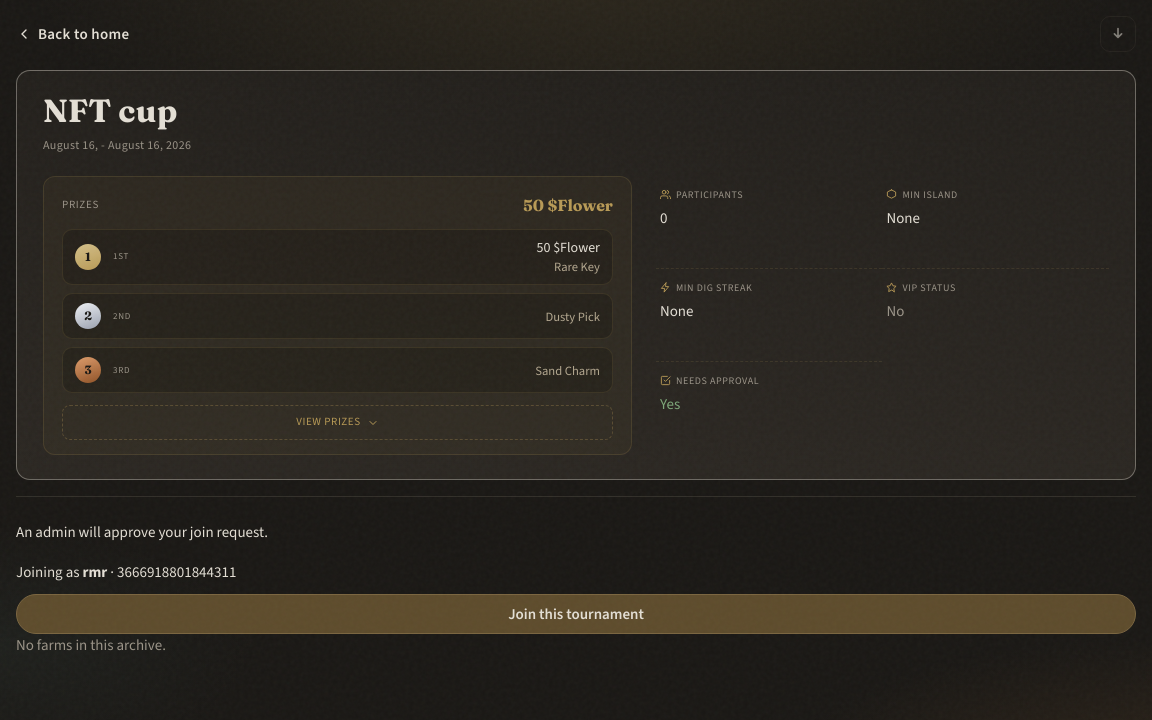
it: TournamentsPage › omits zero Flower on details prize rows and shows only the NFT name
What coordinates should you click on to do the following:
click the button with test id "tournament-more-prizes"
I would click on:
 (338, 423)
Its box is [62,405,613,440].
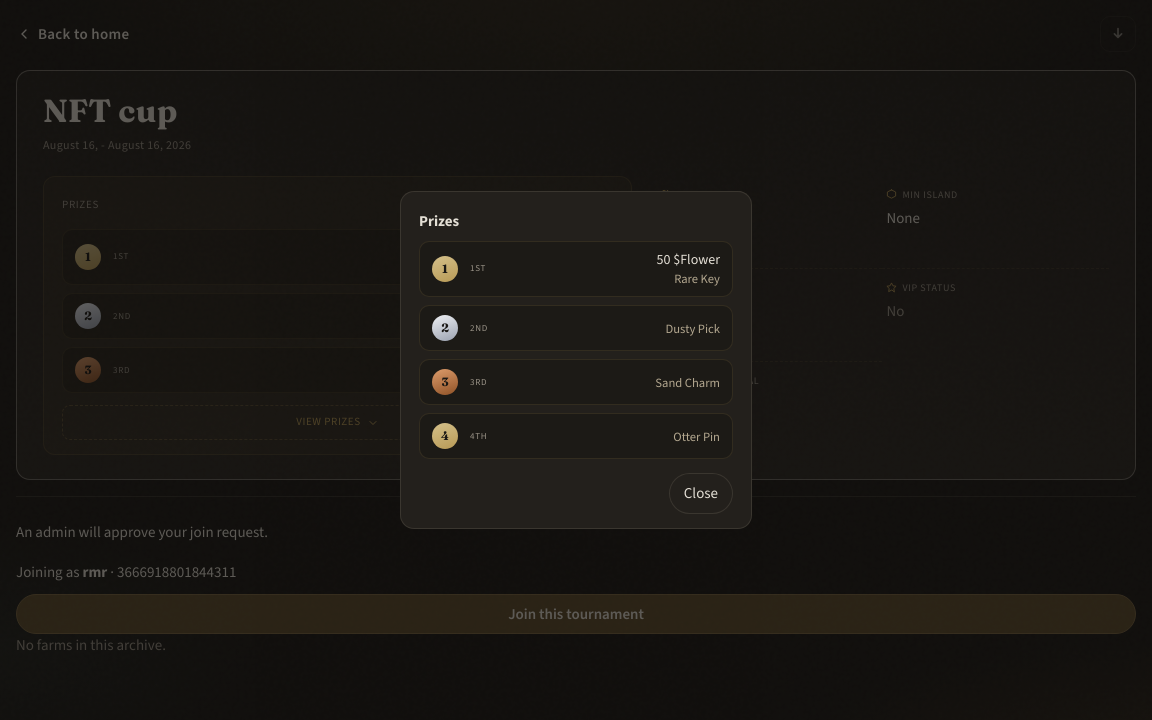
Check: the element with test id "prize-place-card-4" does not show "0 $Flower"
Check: the element with test id "prize-place-card-4" shows "Otter Pin", box [673,428,720,445]
